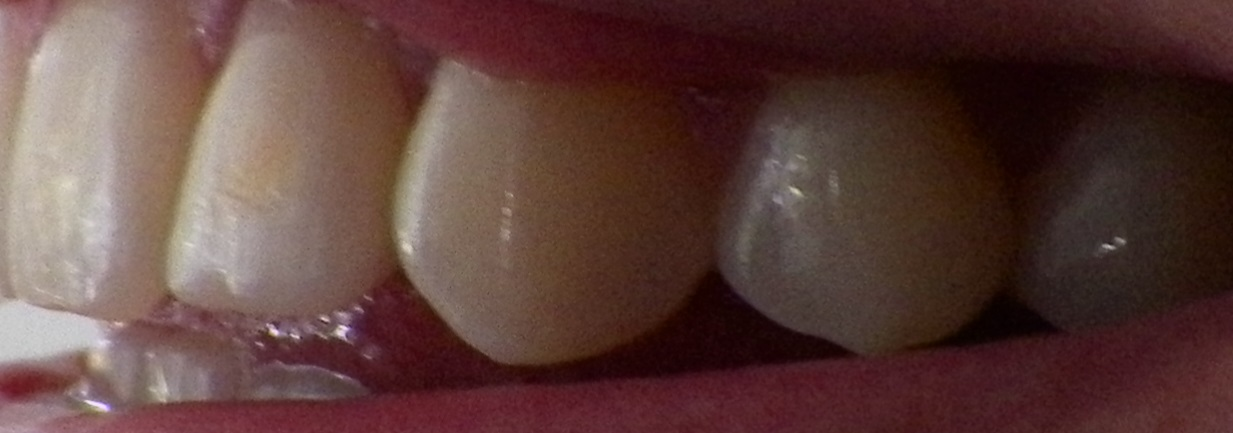boca: (3, 8, 1101, 402)
